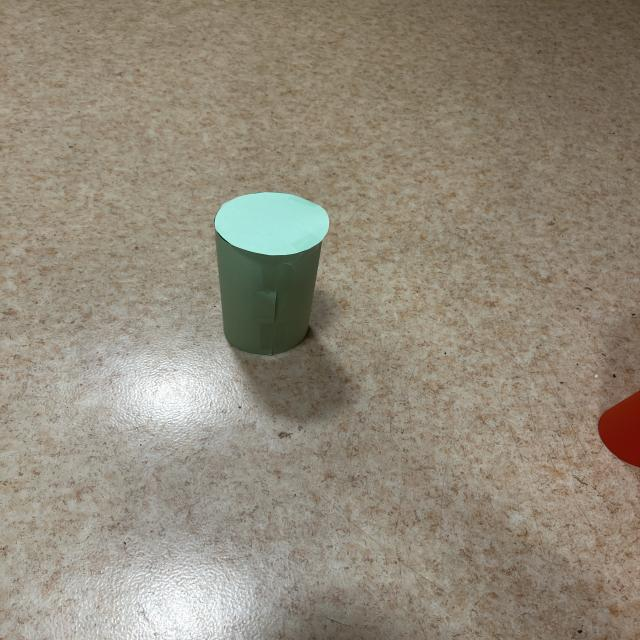meta: (214, 193, 329, 355)
